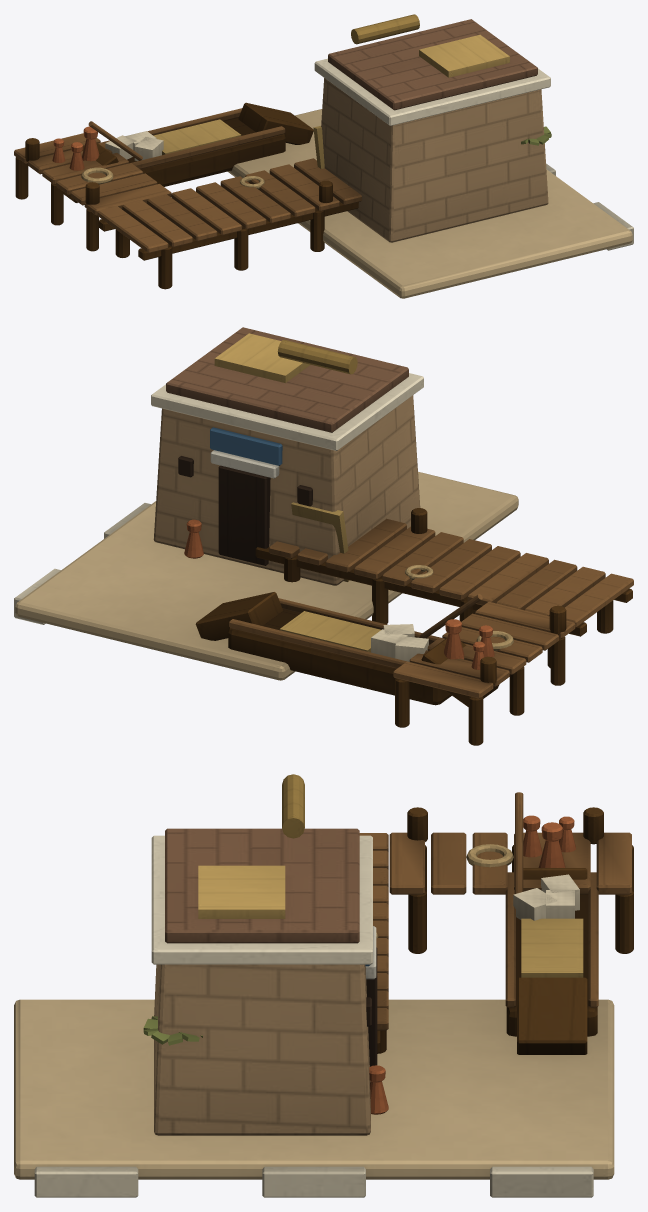
The model's file is harbor.glb.
The picture shows the model from 3 angles, top to bottom: view 1: azimuth 30°, elevation 25°; view 2: azimuth 150°, elevation 25°; view 3: azimuth 270°, elevation 25°; orthographic projection. The views are drawn at different scales.
Parts seen in each view (by area): view 1: harbor_mud_tan, harbor_sand_spit, harbor_wood_mid, harbor_wood_dark, harbor_mud_dark, harbor_thatch_mat, harbor_stone_pale, harbor_thatch_dark, harbor_pottery, harbor_linen_pale, harbor_rope_tan; view 2: harbor_sand_spit, harbor_wood_mid, harbor_mud_tan, harbor_wood_dark, harbor_mud_dark, harbor_stone_pale, harbor_thatch_mat, harbor_door_dark, harbor_pottery, harbor_nile_blue, harbor_linen_pale, harbor_thatch_dark (+2 smaller); view 3: harbor_sand_spit, harbor_mud_tan, harbor_mud_dark, harbor_stone_pale, harbor_wood_mid, harbor_wood_dark, harbor_thatch_mat, harbor_pottery, harbor_linen_pale, harbor_thatch_dark, harbor_door_dark, harbor_rope_tan (+1 smaller).
Part boxes in pixels (box(x1,y1,x2,y2)): harbor_mud_tan: box(321, 78, 548, 242); harbor_sand_spit: box(227, 109, 632, 298); harbor_wood_mid: box(14, 108, 361, 253); harbor_wood_dark: box(15, 102, 358, 289); harbor_mud_dark: box(328, 19, 537, 110); harbor_thatch_mat: box(153, 34, 509, 168); harbor_stone_pale: box(314, 58, 633, 250); harbor_thatch_dark: box(351, 14, 419, 44); harbor_pottery: box(52, 126, 99, 170); harbor_linen_pale: box(105, 131, 163, 161); harbor_rope_tan: box(81, 167, 264, 188); harbor_sand_spit: box(15, 471, 518, 680); harbor_wood_mid: box(229, 518, 633, 698); harbor_mud_tan: box(153, 395, 420, 585); harbor_wood_dark: box(195, 508, 632, 745); harbor_mud_dark: box(166, 327, 408, 432); harbor_stone_pale: box(14, 373, 423, 624); harbor_thatch_mat: box(214, 333, 380, 652); harbor_door_dark: box(178, 456, 312, 565); harbor_pottery: box(184, 519, 494, 669); harbor_nile_blue: box(210, 427, 282, 465); harbor_linen_pale: box(371, 624, 428, 661); harbor_thatch_dark: box(277, 340, 357, 374); harbor_sand_spit: box(14, 999, 614, 1179); harbor_mud_tan: box(154, 964, 370, 1135); harbor_mud_dark: box(165, 828, 359, 943); harbor_stone_pale: box(34, 835, 593, 1197); harbor_wood_mid: box(359, 792, 631, 1030); harbor_wood_dark: box(377, 807, 633, 1054); harbor_thatch_mat: box(198, 865, 583, 977); harbor_pottery: box(369, 815, 575, 1114); harbor_linen_pale: box(513, 874, 579, 920); harbor_thatch_dark: box(282, 774, 304, 838); harbor_door_dark: box(366, 947, 377, 1066); harbor_rope_tan: box(376, 844, 513, 938).
Size of the model in its own units: 3.41 by 1.53 by 3.
15 materials, 13 textured.
